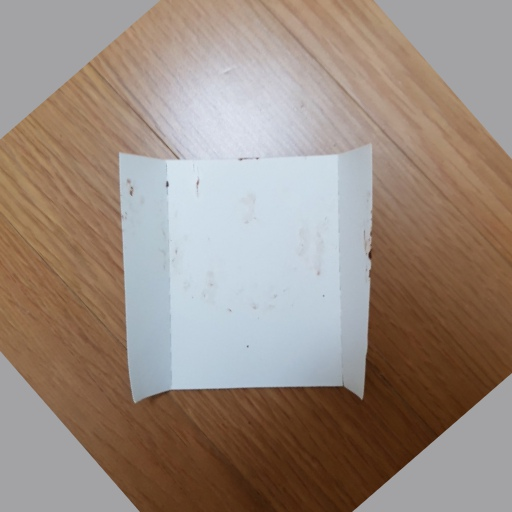Paper_3: (104, 140, 387, 430)
